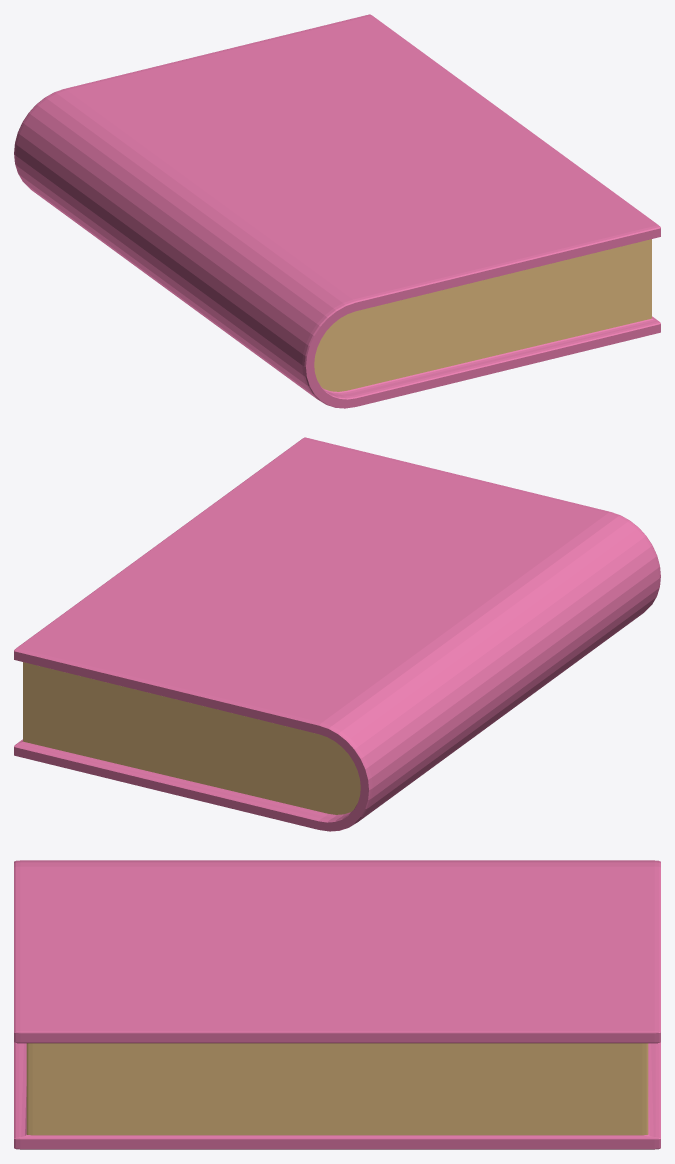
The model's file is BookPink.fbx.
The picture shows the model from 3 angles, top to bottom: view 1: azimuth 30°, elevation 25°; view 2: azimuth 150°, elevation 25°; view 3: azimuth 270°, elevation 25°; orthographic projection. The views are drawn at different scales.
Visible parts, largest first — view 1: Book.003; view 2: Book.003; view 3: Book.003.
Boxes of the visible parts, box(x1,y1,x2,y2) form: Book.003: box(14, 14, 660, 408); Book.003: box(14, 437, 660, 831); Book.003: box(14, 860, 660, 1149).
Bounding box in the file's own units: 702 × 200 × 995.
